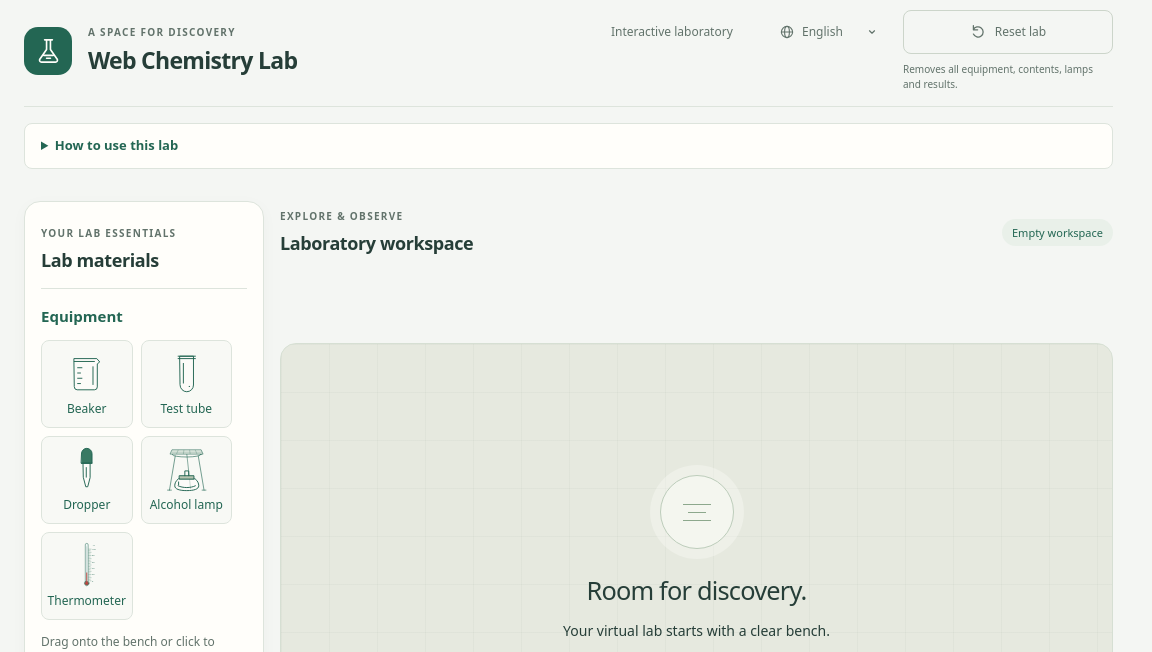
Scenario: Experiment Sample/Result tabs › opens Result for a new reaction and keeps result text outside Sample
Click the button with aria-label "Add Beaker": (87, 384) x1=41 y1=340 x2=132 y2=428
(page scrolled)
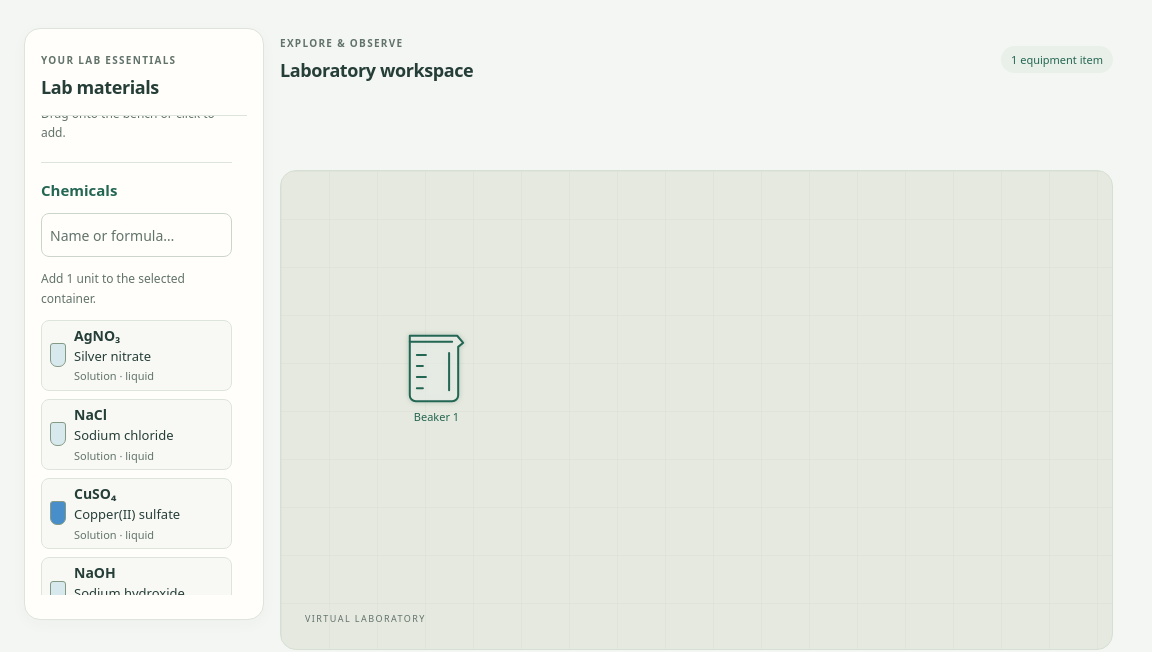
Click the button "AgNO₃ Silver nitrate Solution · liquid": (136, 355) x1=41 y1=320 x2=232 y2=391
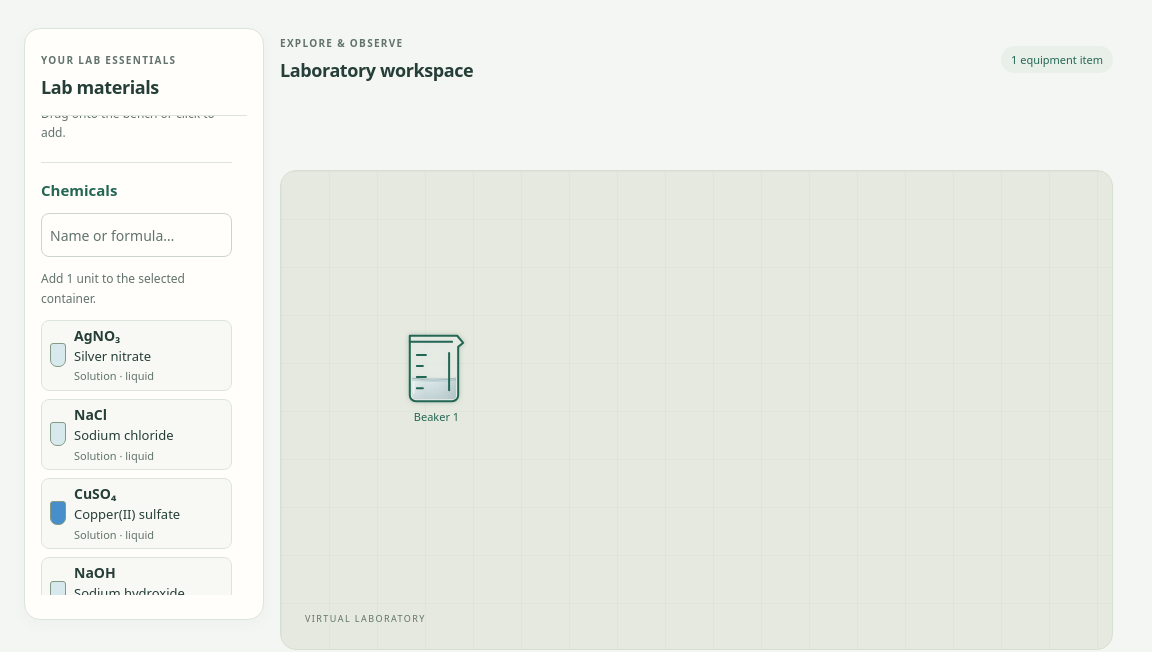
Click the button with aria-label "Add Sodium chloride": (136, 434) x1=41 y1=399 x2=232 y2=470
(page scrolled)
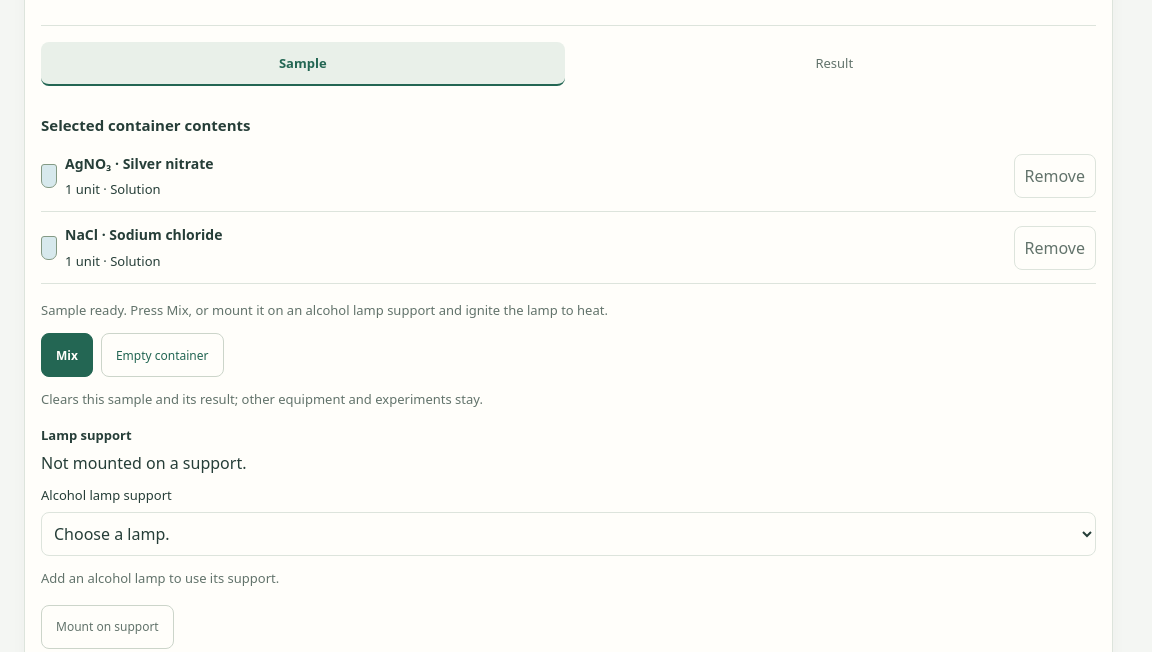
Click the button "Mix": (67, 355) x1=41 y1=333 x2=93 y2=377
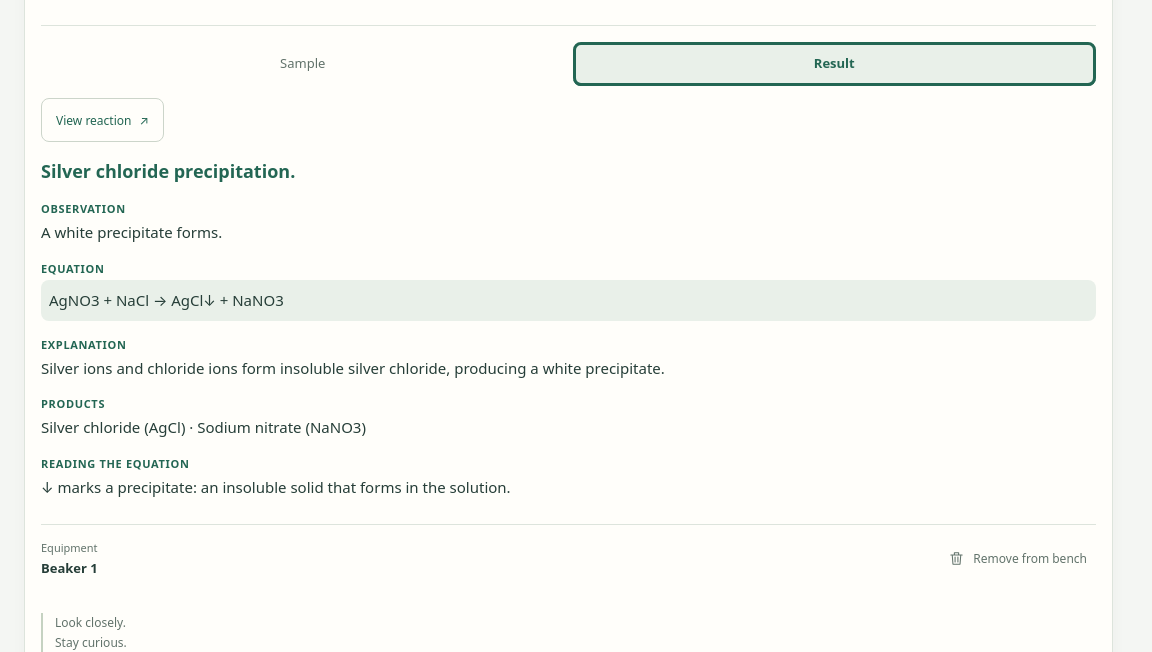
Expected: the message named "Mix result" shows "Silver chloride precipitation", x1=41 y1=159 x2=290 y2=183
Expected: the text "Observation" is shown, x1=41 y1=201 x2=126 y2=216
Expected: the text "Mix" is gone
Click the tab "Sample": (303, 64) x1=41 y1=42 x2=564 y2=86
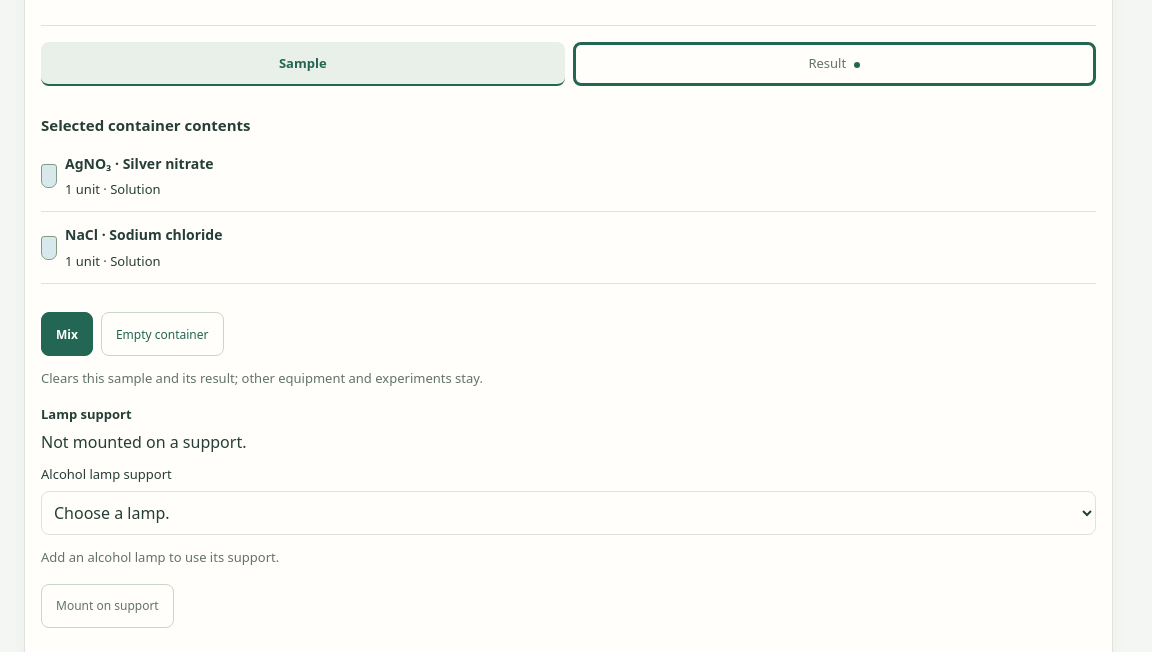
Expected: the heading "Silver chloride precipitation." is gone
Expected: the text "Products" is gone
Expected: the button "Mix" is shown, x1=41 y1=312 x2=93 y2=356
